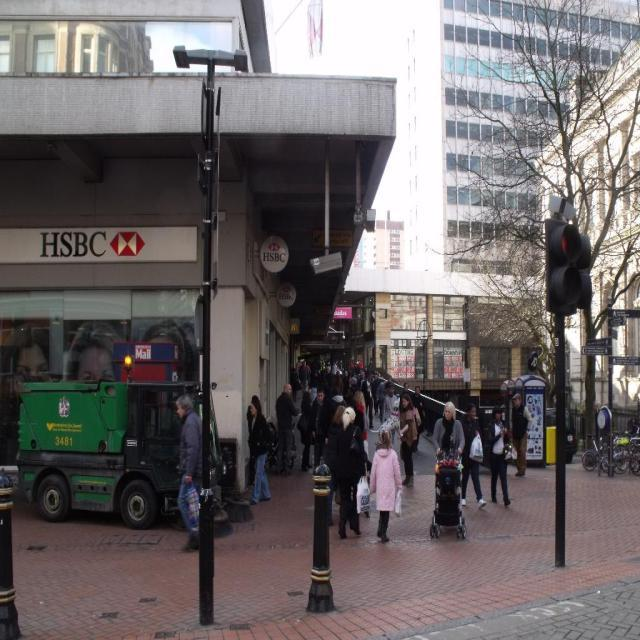traffic light: (549, 223, 579, 313)
